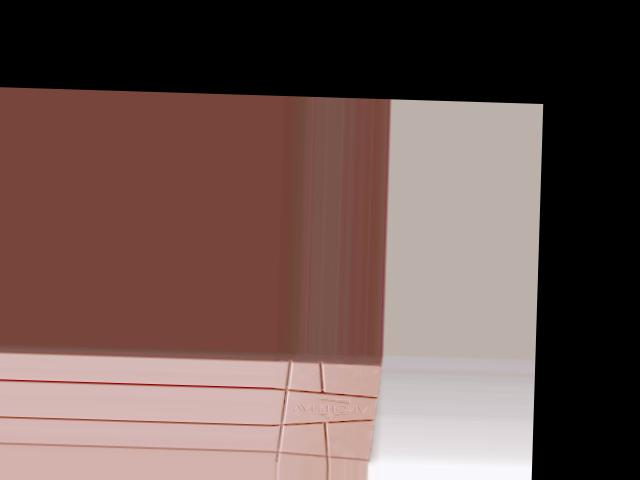chocolate: (269, 355, 384, 465)
